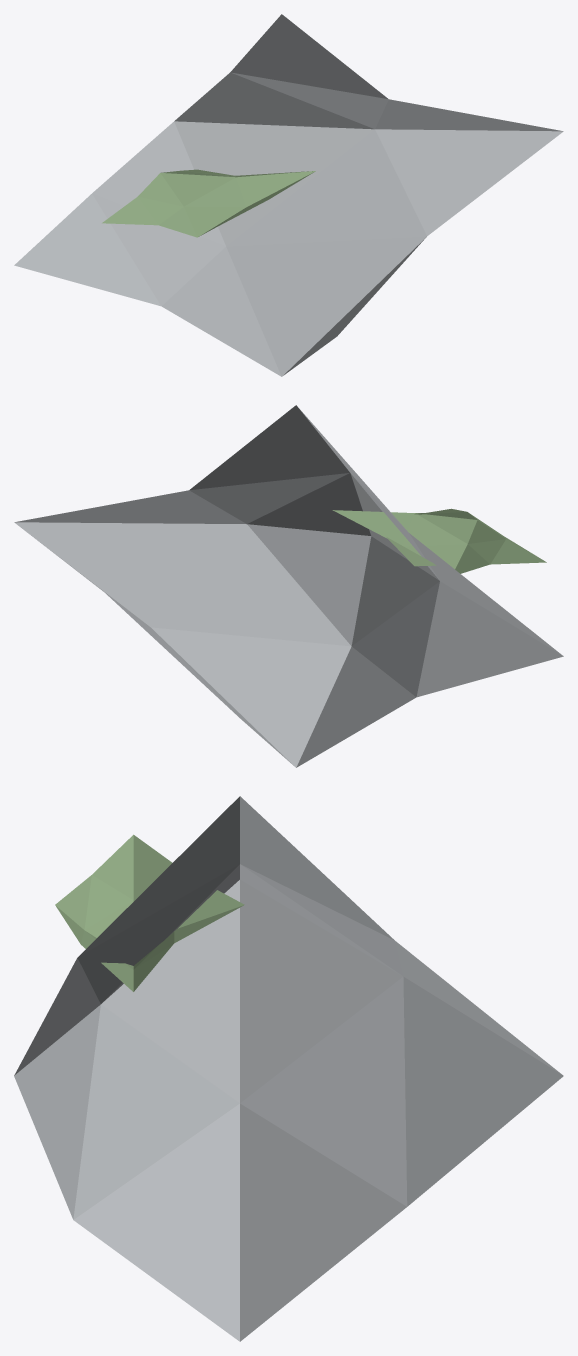
Rendered from boulder_v19.glb.
3 renders of one model, top to bottom at view 1: azimuth 30°, elevation 25°; view 2: azimuth 150°, elevation 25°; view 3: azimuth 270°, elevation 25°, orthographic. The views are drawn at different scales.
Parts seen in each view (by area): view 1: lod0; view 2: lod0; view 3: lod0.
Part boxes in pixels (x1,y1,x2,y2): lod0: (14,14,563,376); lod0: (14,405,563,767); lod0: (14,796,563,1341).
Size of what is drawn, in the model's own units: 3.95 by 2.49 by 2.27.
